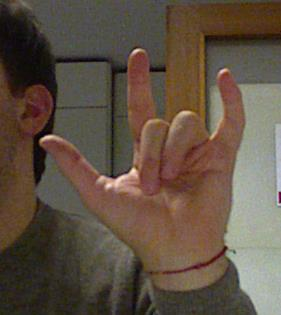back: (35, 44, 249, 255)
